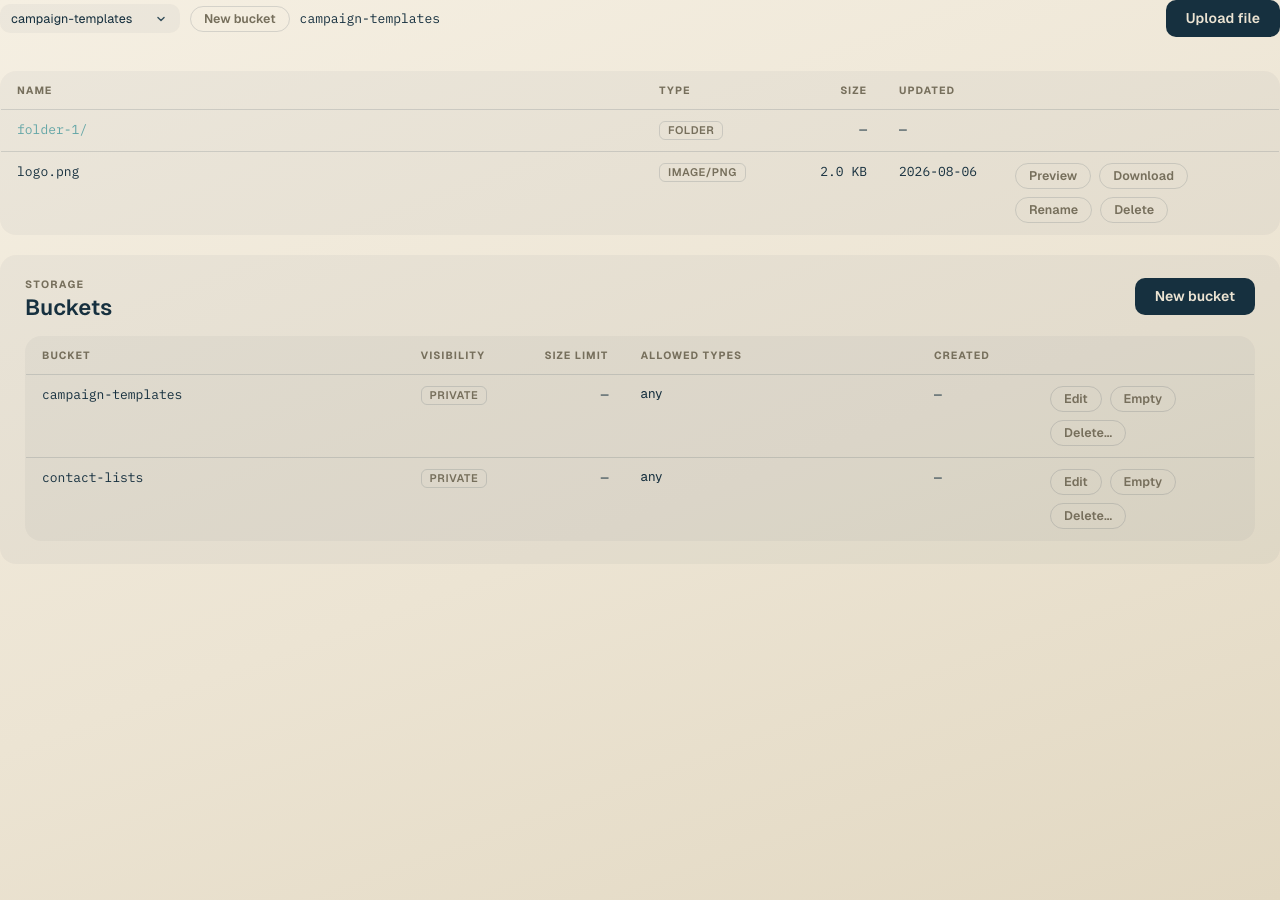
Test: StorageBrowser › clicking a folder drills in and fetches that prefix
The image size is (1280, 900).
Click the button "folder-1/". click: (52, 130)
box: top-left (17, 121), bottom-right (87, 138)
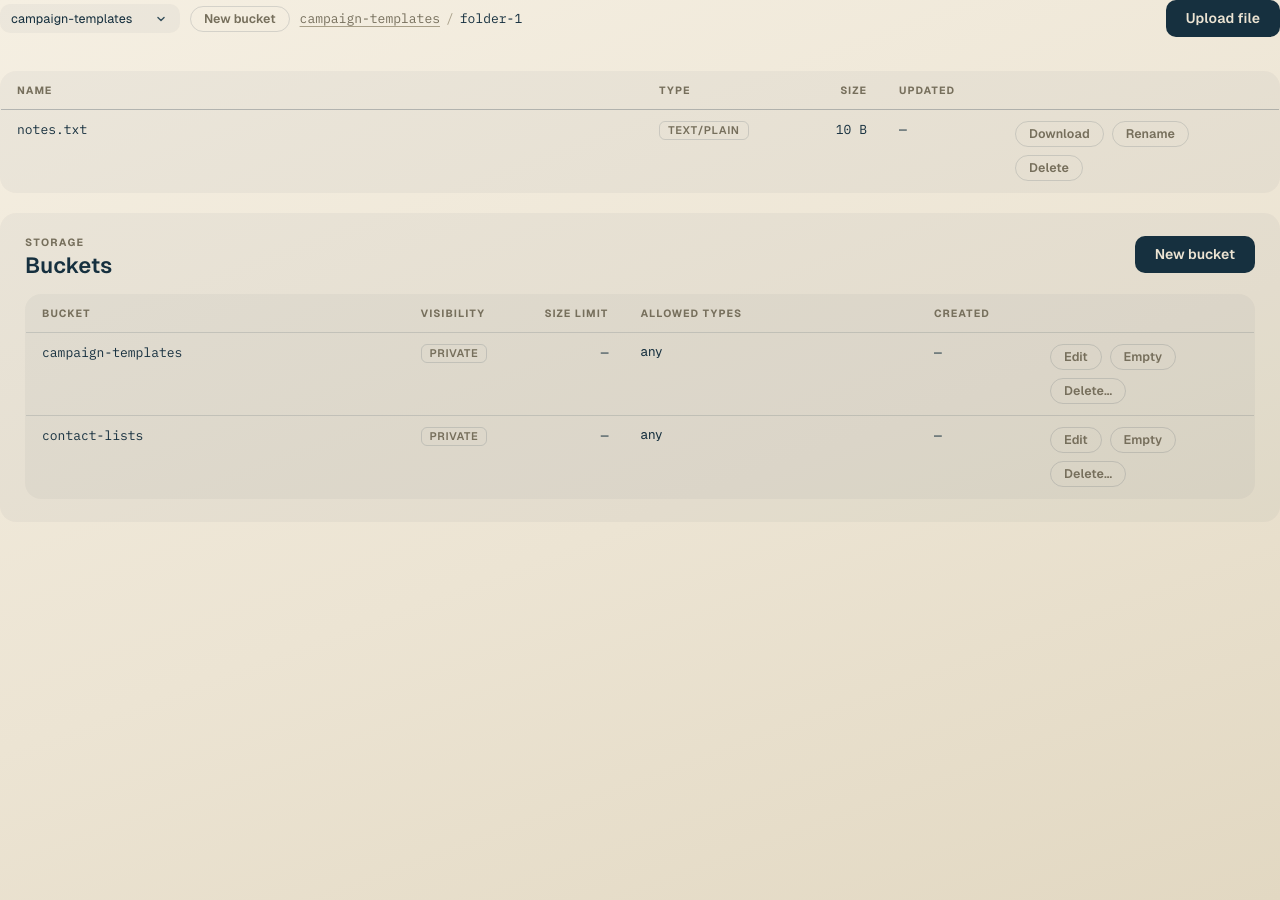
Result: the text "notes.txt" is shown at top-left (17, 121), bottom-right (87, 138)
